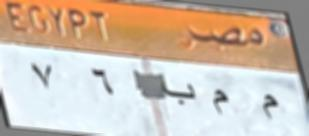6: (89, 65, 122, 97)
7: (26, 63, 62, 89)
baa: (159, 80, 200, 108)
meem: (253, 85, 280, 125), (205, 87, 236, 120)
